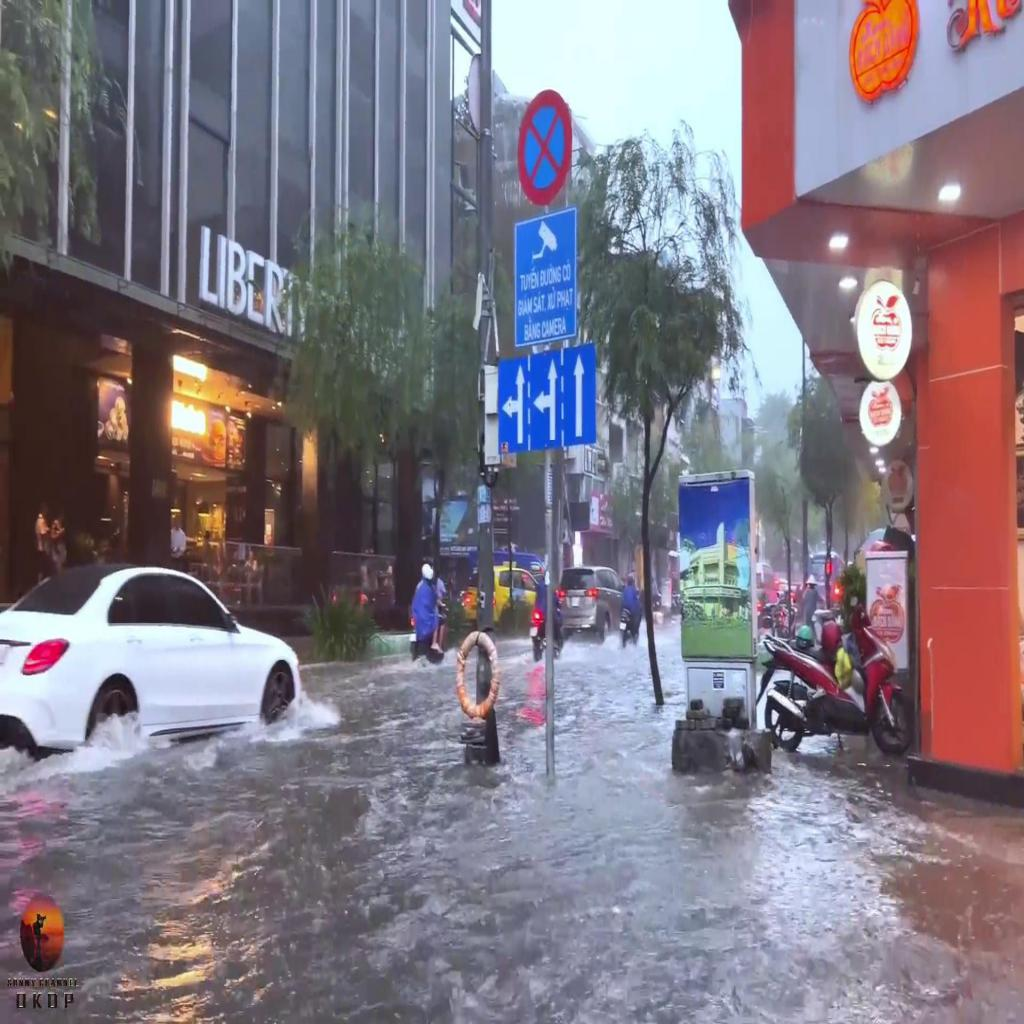cam_dung_xe_va_do_xe: (516, 88, 573, 205)
huong_di_tren_moi_lan_duong_theo_vach_ke_duong: (499, 342, 597, 458)
khac: (512, 209, 576, 347)
